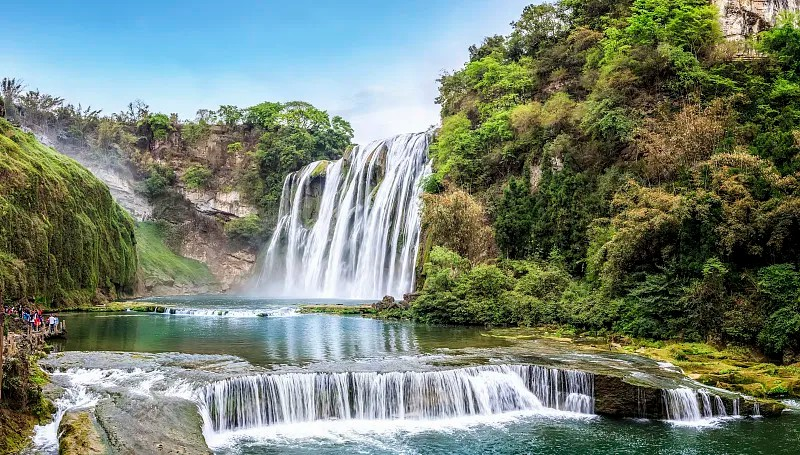Huangguoshu: (264, 128, 428, 300)
